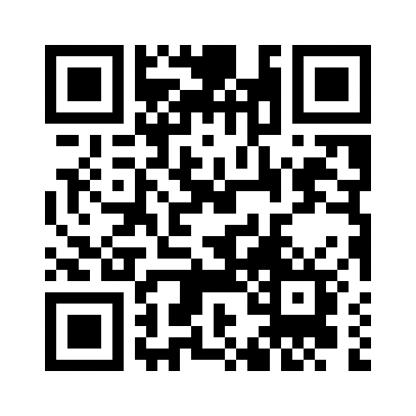qr: (39, 40, 374, 375)
